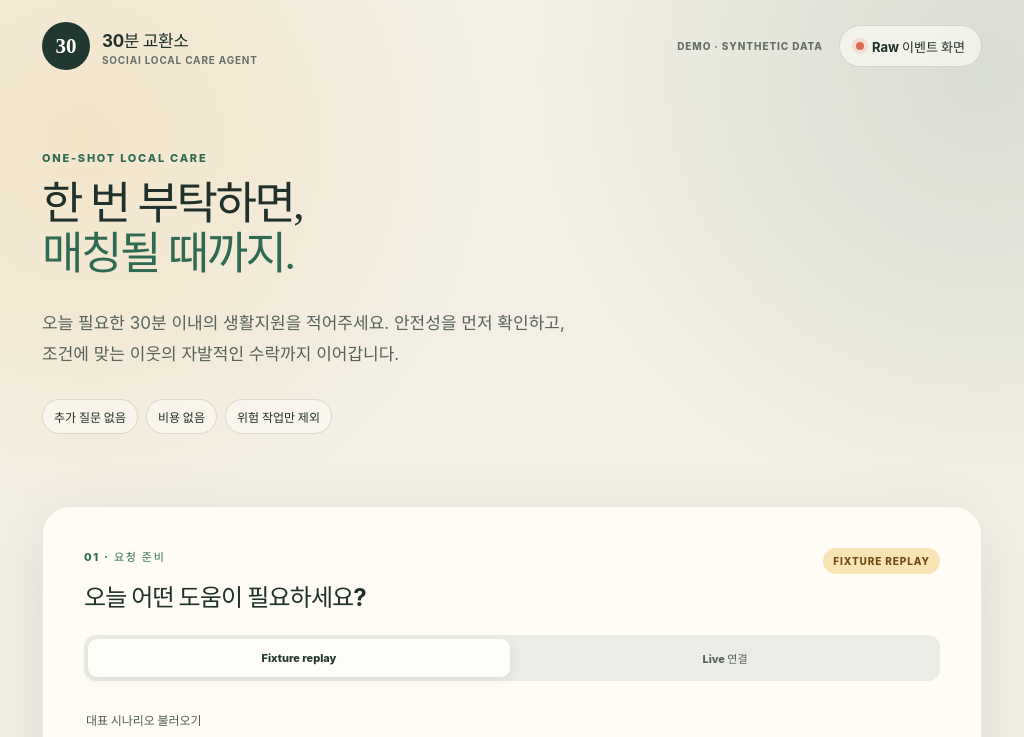
Test: role 3 demo UI › distinguishes a server boundary rejection from client form validation
Click the button "Live 연결" at coordinates (725, 658), box [514,639,936,677]
(page scrolled)
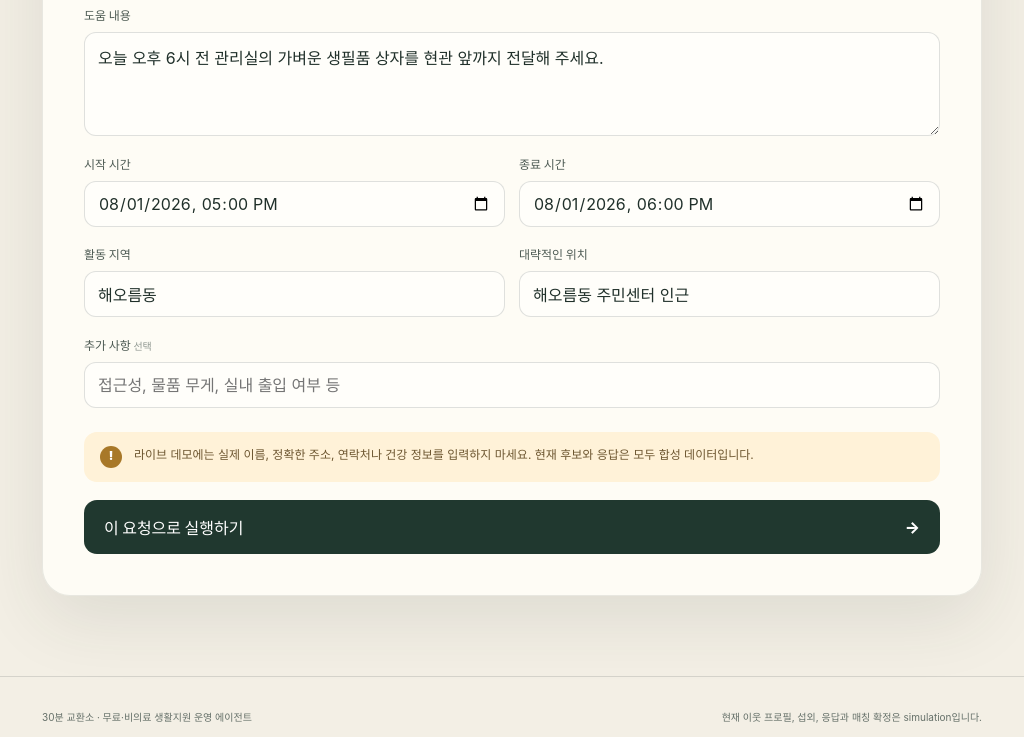
Click the button "이 요청으로 실행하기 →" at coordinates (174, 528), box [84,500,940,554]
(page scrolled)
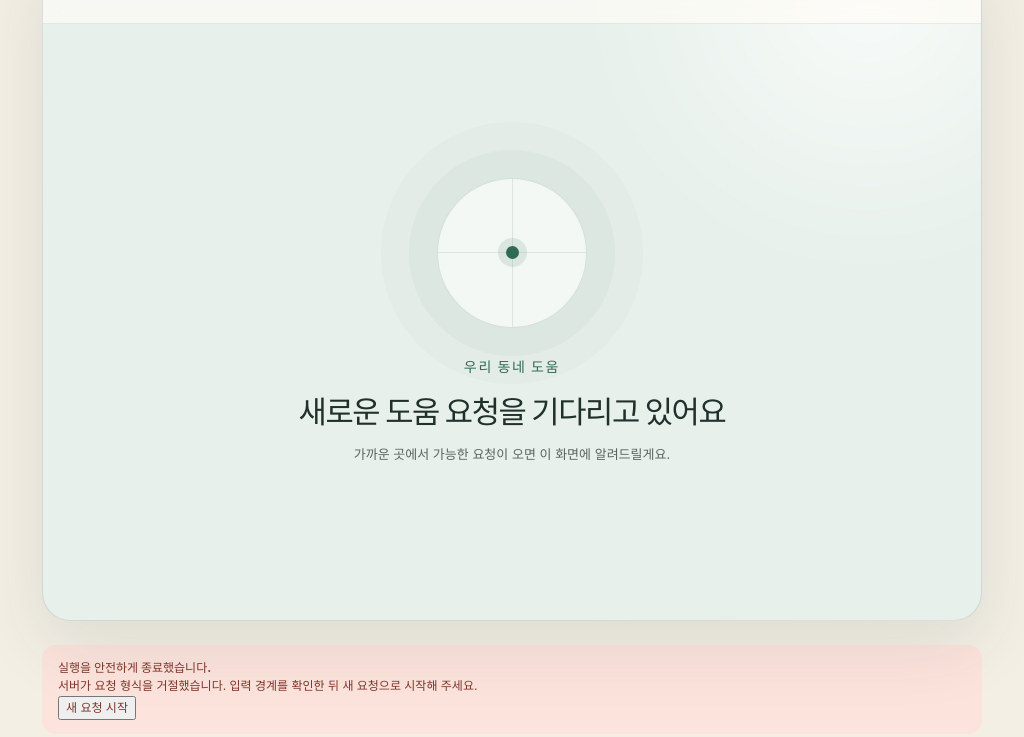
Expected: the message does not show "server details", [42,644,982,734]
Expected: the message shows "서버가 요청 형식을 거절했습니다.", [58,678,477,693]
